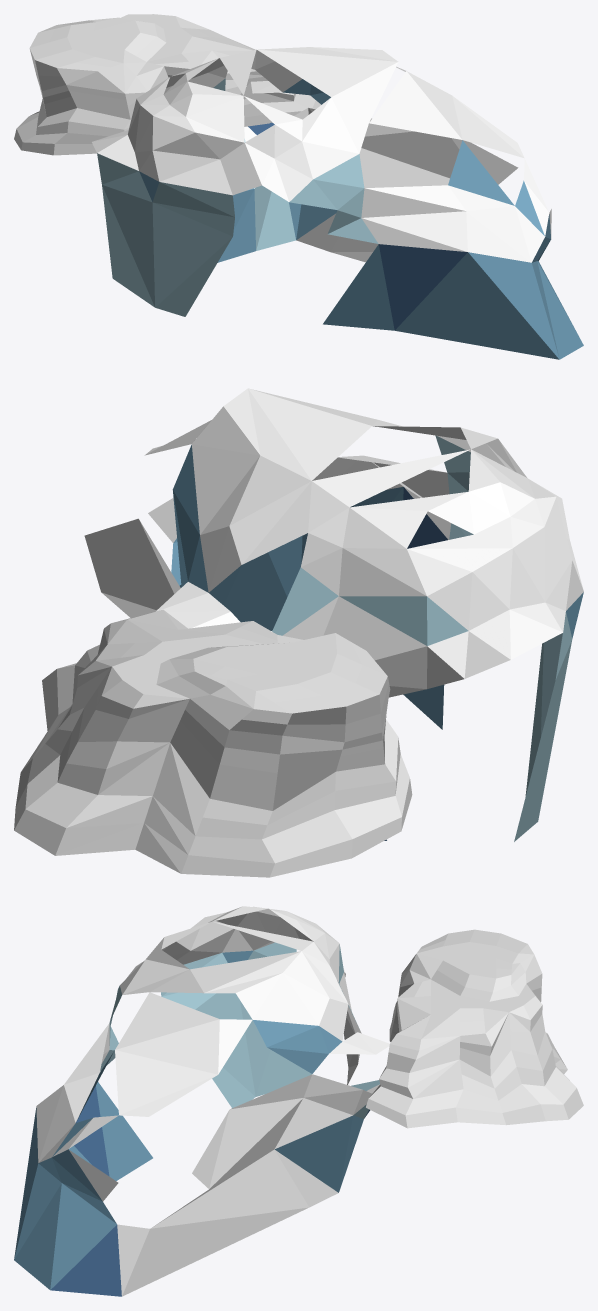
The model's file is terrainCliffLarge1 1.fbx.
3 views of the same model, one above another, from view 1: azimuth 30°, elevation 25°; view 2: azimuth 150°, elevation 25°; view 3: azimuth 270°, elevation 25° (orthographic). The views are drawn at different scales.
Visible parts, largest first — view 1: bottom_1, top_1, bottom, top; view 2: bottom, bottom_1, top_1, top; view 3: bottom_1, top_1, bottom, top.
Part boxes in pixels (left/top/right/bottom): bottom_1: left=97, top=61, right=583, bottom=359; top_1: left=92, top=47, right=524, bottom=210; bottom: left=14, top=25, right=320, bottom=155; top: left=58, top=14, right=295, bottom=101; bottom: left=14, top=629, right=412, bottom=877; bottom_1: left=84, top=406, right=583, bottom=841; top_1: left=144, top=388, right=582, bottom=678; top: left=75, top=609, right=336, bottom=718; bottom_1: left=14, top=907, right=379, bottom=1296; top_1: left=64, top=906, right=389, bottom=1122; bottom: left=366, top=929, right=583, bottom=1128; top: left=379, top=946, right=542, bottom=1098.
Size of the model in its own units: 4572 by 2991 by 6230.
